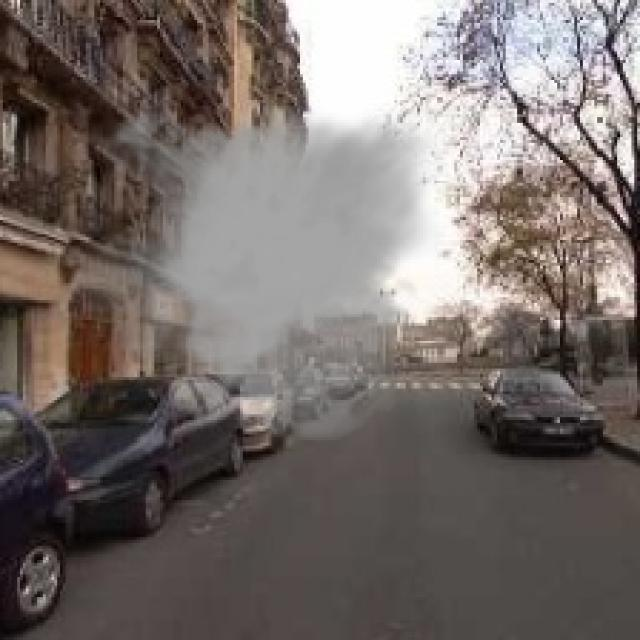Smoke: (68, 100, 446, 446)
